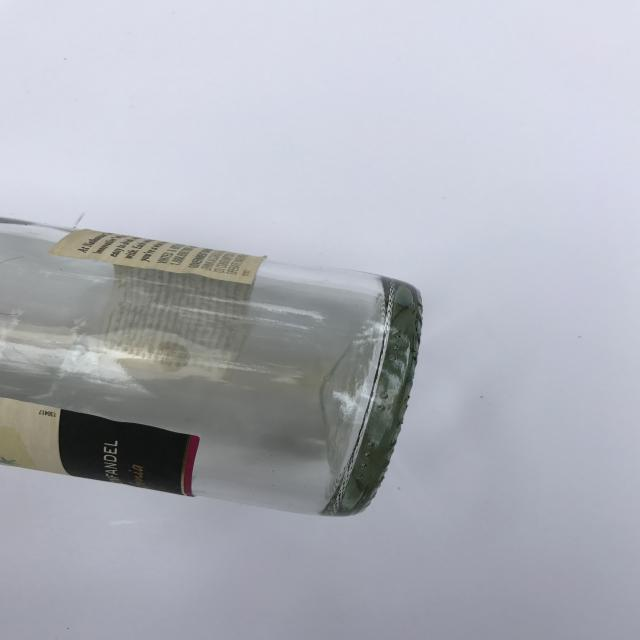glass: (0, 215, 424, 518)
